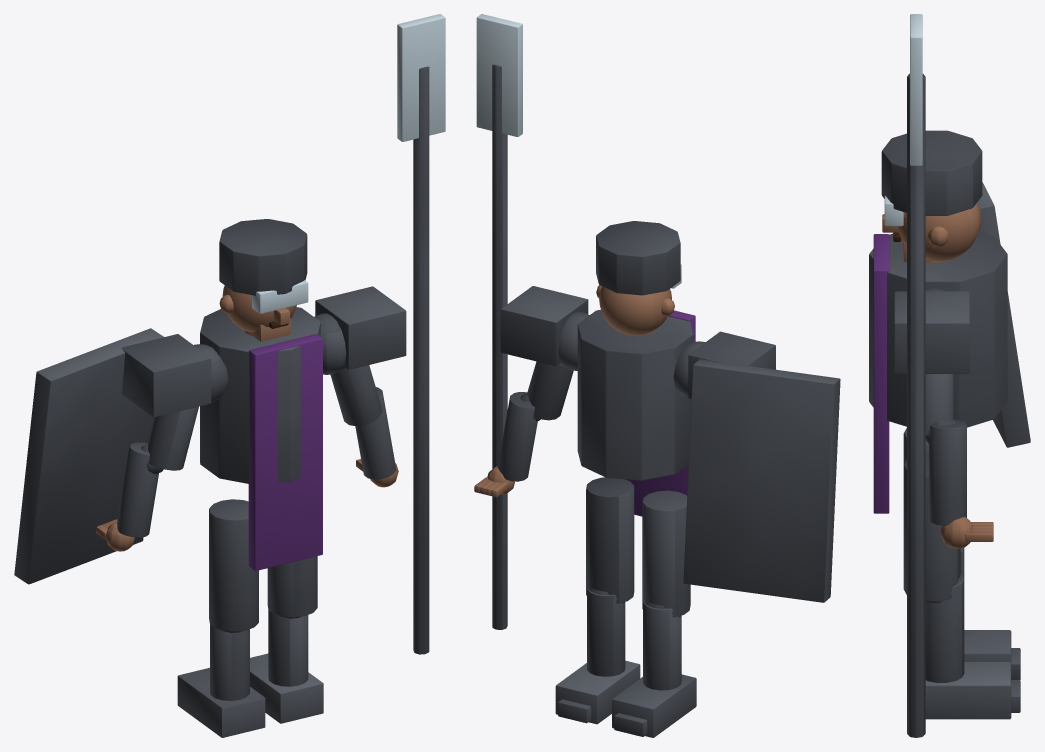
Rendered from unit_veiled_priest_guard.fbx.
The picture shows the model from 3 angles, left to right: view 1: azimuth 30°, elevation 25°; view 2: azimuth 150°, elevation 25°; view 3: azimuth 270°, elevation 25°; orthographic projection. The views are drawn at different scales.
Parts seen in each view (by area): view 1: unit_veiled_priest_guard; view 2: unit_veiled_priest_guard; view 3: unit_veiled_priest_guard.
Part boxes in pixels (bbox=[...]): unit_veiled_priest_guard: bbox=[14, 14, 445, 737]; unit_veiled_priest_guard: bbox=[474, 14, 840, 737]; unit_veiled_priest_guard: bbox=[869, 14, 1030, 737].
Size of the model in its own units: 1.62 by 2.61 by 0.5114.
